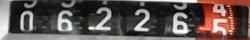digits: (132, 8, 150, 32), (210, 16, 228, 40), (171, 11, 189, 34), (94, 7, 112, 30), (56, 9, 73, 31), (19, 10, 34, 31)
